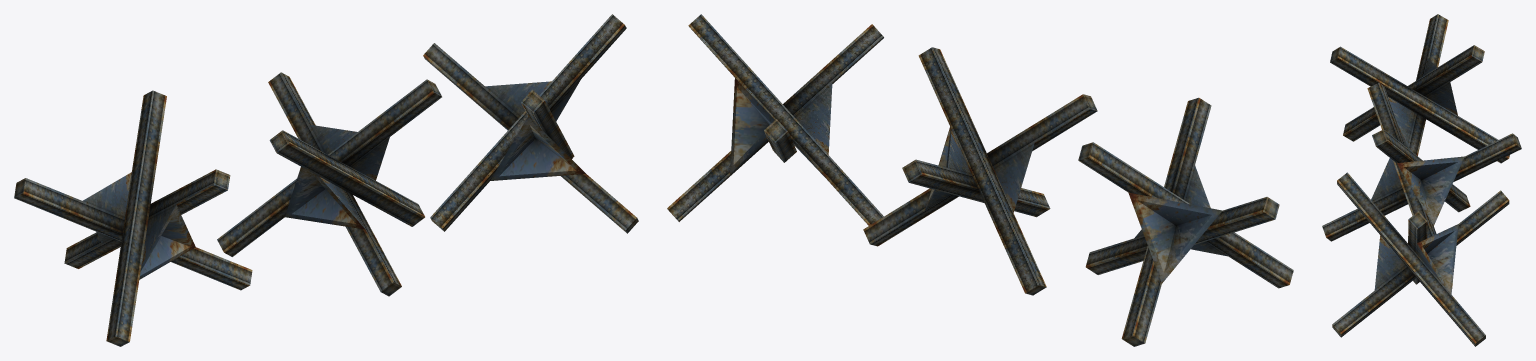
Rendered from M09_HedgeHog.glb.
3 renders of one model, left to right at view 1: azimuth 30°, elevation 25°; view 2: azimuth 150°, elevation 25°; view 3: azimuth 270°, elevation 25°, orthographic. The views are drawn at different scales.
Parts seen in each view (by area): view 1: M09_HEDGEHOG; view 2: M09_HEDGEHOG; view 3: M09_HEDGEHOG.
Boxes of the visible parts, x1=… form: M09_HEDGEHOG: x1=14, y1=14, x2=638, y2=346; M09_HEDGEHOG: x1=667, y1=14, x2=1293, y2=346; M09_HEDGEHOG: x1=1322, y1=14, x2=1521, y2=346.
Bounding box in the file's own units: 7.55 × 2.17 × 2.75.
1 material, 1 textured.
